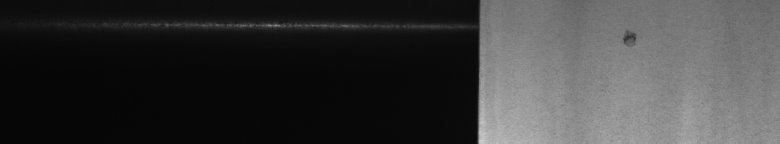fi: (616, 24, 640, 52)
